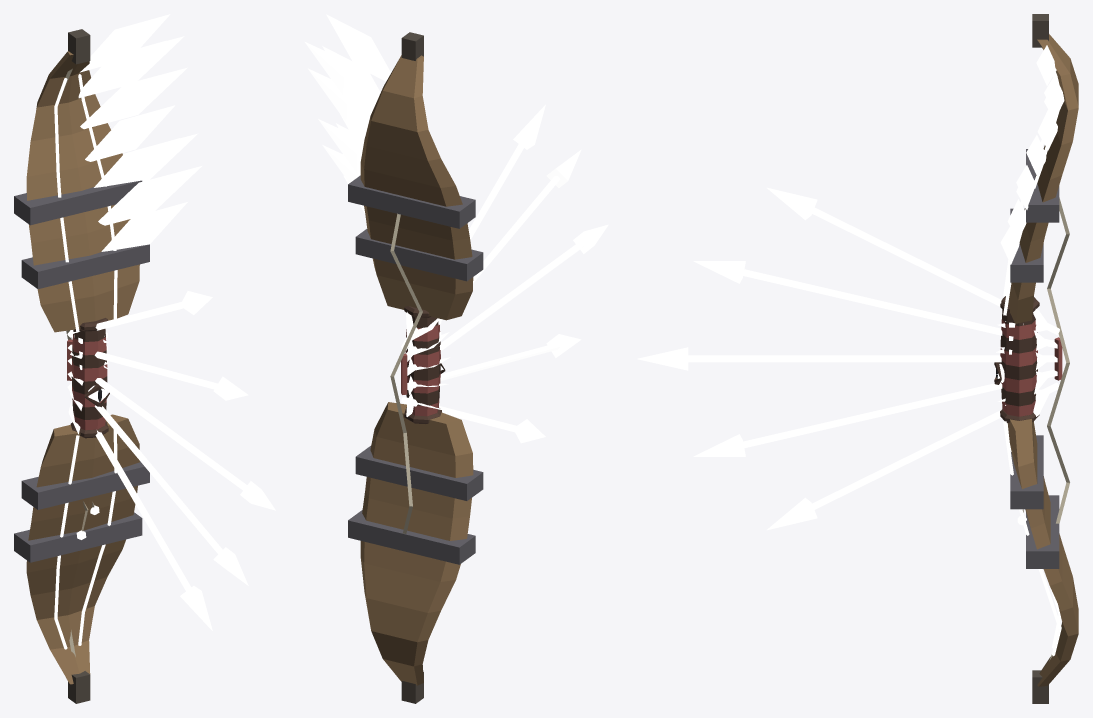
Rendered from bow-arrow-storm.glb.
3 renders of one model, left to right at view 1: azimuth 30°, elevation 25°; view 2: azimuth 150°, elevation 25°; view 3: azimuth 270°, elevation 25°, orthographic. The views are drawn at different scales.
Parts seen in each view (by area): view 1: bow-arrow-storm, pulse_arrow, pulse_vein; view 2: bow-arrow-storm, pulse_arrow, string; view 3: bow-arrow-storm, pulse_arrow, string, pulse_vein.
Part boxes in pixels (x1,y1,x2,y2): bow-arrow-storm: (14, 14, 201, 703); pulse_arrow: (67, 291, 275, 630); pulse_vein: (54, 74, 117, 649); bow-arrow-storm: (305, 14, 483, 703); pulse_arrow: (401, 104, 608, 443); string: (390, 213, 422, 533); bow-arrow-storm: (1000, 14, 1078, 703); pulse_arrow: (637, 187, 1059, 530); string: (1047, 71, 1069, 660); pulse_vein: (1003, 72, 1061, 656).
Size of the model in its own units: 0.3943 by 1.53 by 0.8991.
